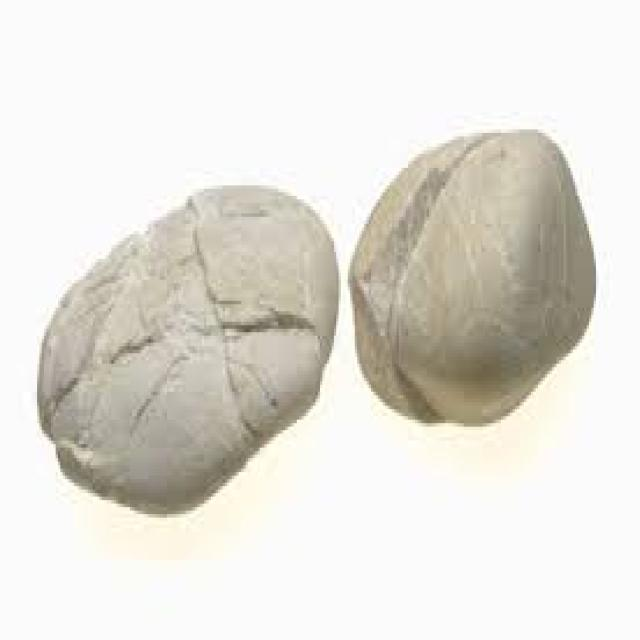Metamorphic: (37, 182, 339, 514), (348, 115, 600, 427)
